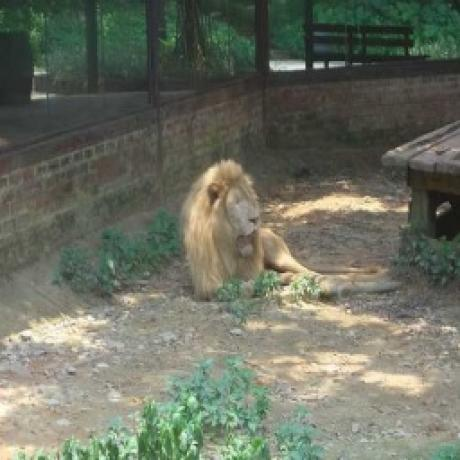Lion: (180, 154, 333, 302)
